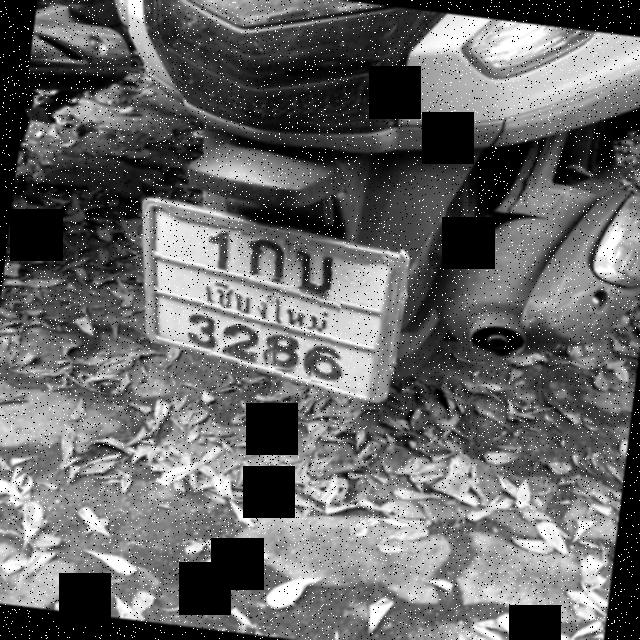letters: (289, 250, 346, 292), (244, 235, 289, 282), (205, 219, 242, 268), (178, 308, 216, 353), (308, 344, 348, 386), (268, 333, 304, 372), (225, 320, 260, 358)
license-plate: (145, 204, 399, 403)
province: (190, 271, 342, 331)
